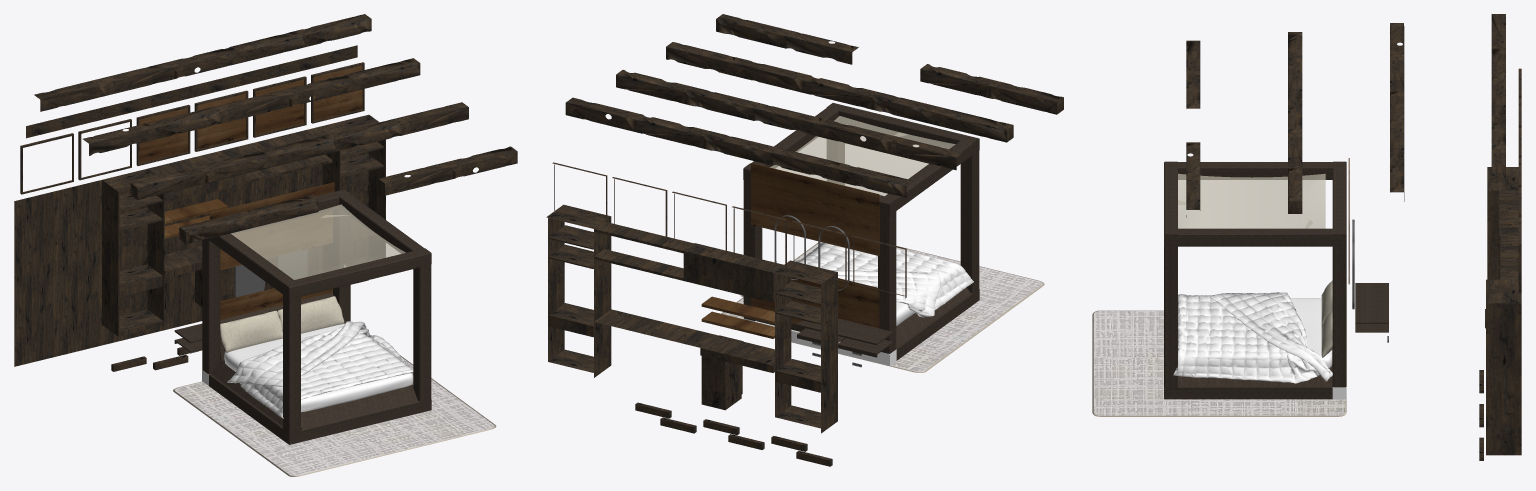
The model's file is BedRoom.gltf.
The picture shows the model from 3 angles, left to right: view 1: azimuth 30°, elevation 25°; view 2: azimuth 150°, elevation 25°; view 3: azimuth 270°, elevation 25°; orthographic projection. The views are drawn at different scales.
Parts seen in each view (by area): view 1: Material2.419, Material2.417, Material2.215, Material2.265, Material2.214, Material2.220, Material2.420, Material2.403, Retopo_Material2.213, Retopo_Material2.219, Material2.405, Material2.269 (+1 smaller); view 2: Material2.419, Material2.417, Material2.215, Material2.403, Material2.214, Material2.265, Material2.220, Material2.205, Material2.420, Material2.405, Material2.269; view 3: Material2.215, Material2.214, Material2.419, Material2.265, Material2.417, Material2.220, Material2.205, Retopo_Material2.219, Retopo_Material2.213, Material2.269.
Boxes of the visible parts, box(x1,y1,x2,y2) form: Material2.419: box(14, 45, 385, 371); Material2.417: box(34, 14, 517, 244); Material2.215: box(202, 189, 431, 444); Material2.265: box(174, 359, 494, 475); Material2.214: box(202, 321, 413, 418); Material2.220: box(231, 204, 405, 279); Material2.420: box(139, 65, 362, 238); Material2.403: box(209, 182, 334, 319); Retopo_Material2.213: box(220, 296, 344, 352); Retopo_Material2.219: box(224, 323, 413, 412); Material2.405: box(189, 249, 307, 353); Material2.269: box(173, 355, 496, 476); Material2.419: box(546, 162, 906, 466); Material2.417: box(565, 14, 1063, 198); Material2.215: box(743, 103, 979, 360); Material2.403: box(751, 163, 879, 328); Material2.214: box(740, 242, 973, 365); Material2.265: box(722, 242, 1042, 371); Material2.220: box(770, 116, 955, 196); Material2.205: box(797, 318, 892, 357); Material2.420: box(701, 296, 774, 338); Material2.405: box(774, 215, 861, 367); Material2.269: box(721, 242, 1044, 372); Material2.215: box(1164, 161, 1346, 399); Material2.214: box(1173, 292, 1346, 399); Material2.419: box(1479, 68, 1521, 460); Material2.265: box(1093, 311, 1345, 415); Material2.417: box(1186, 14, 1505, 217); Material2.220: box(1178, 173, 1325, 228); Material2.205: box(1355, 283, 1388, 332); Retopo_Material2.219: box(1178, 298, 1332, 368); Retopo_Material2.213: box(1321, 280, 1332, 357); Material2.269: box(1092, 310, 1346, 416).
Bounding box in the file's own units: 5.08 × 4.01 × 5.09.
9 materials, 7 textured.
